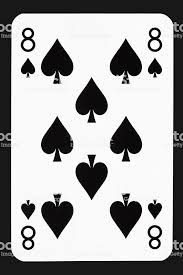eight of spades: (11, 13, 173, 261)
